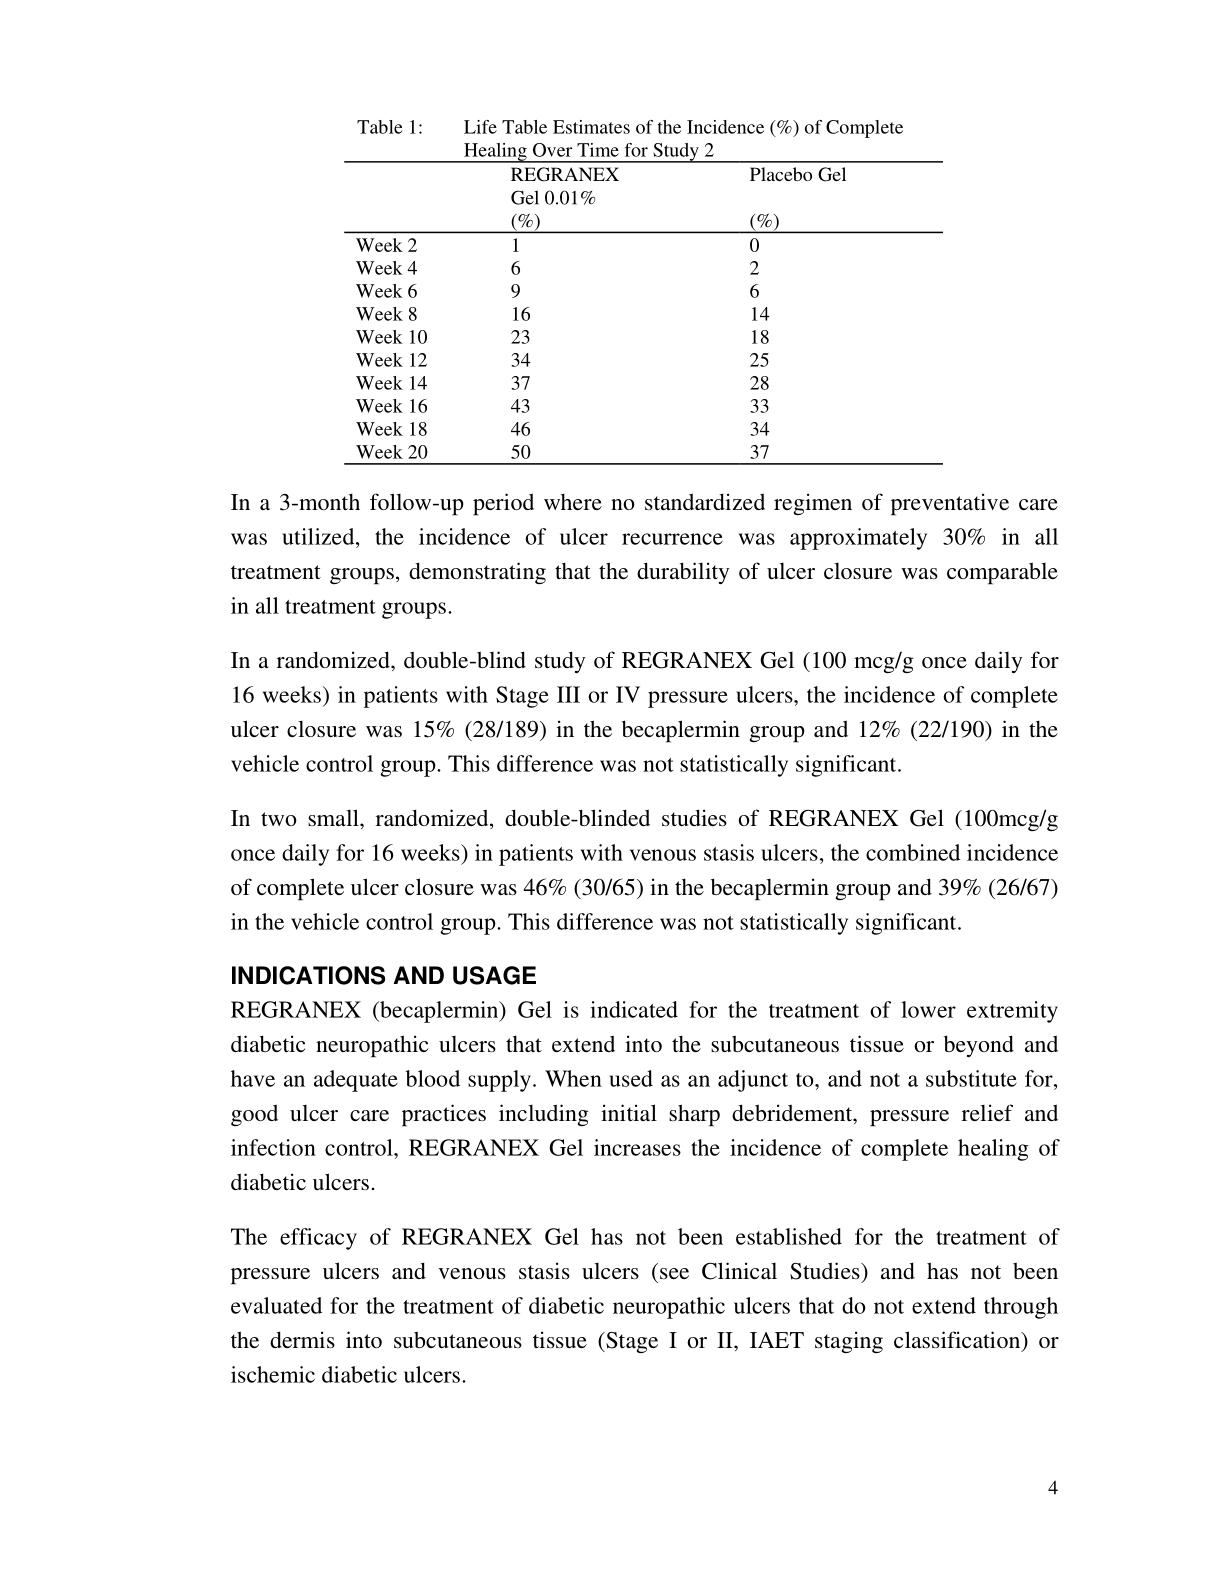partial_lined: (342, 159, 945, 467)
